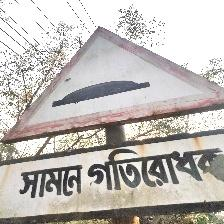Speed-breaker: (1, 25, 224, 224)
